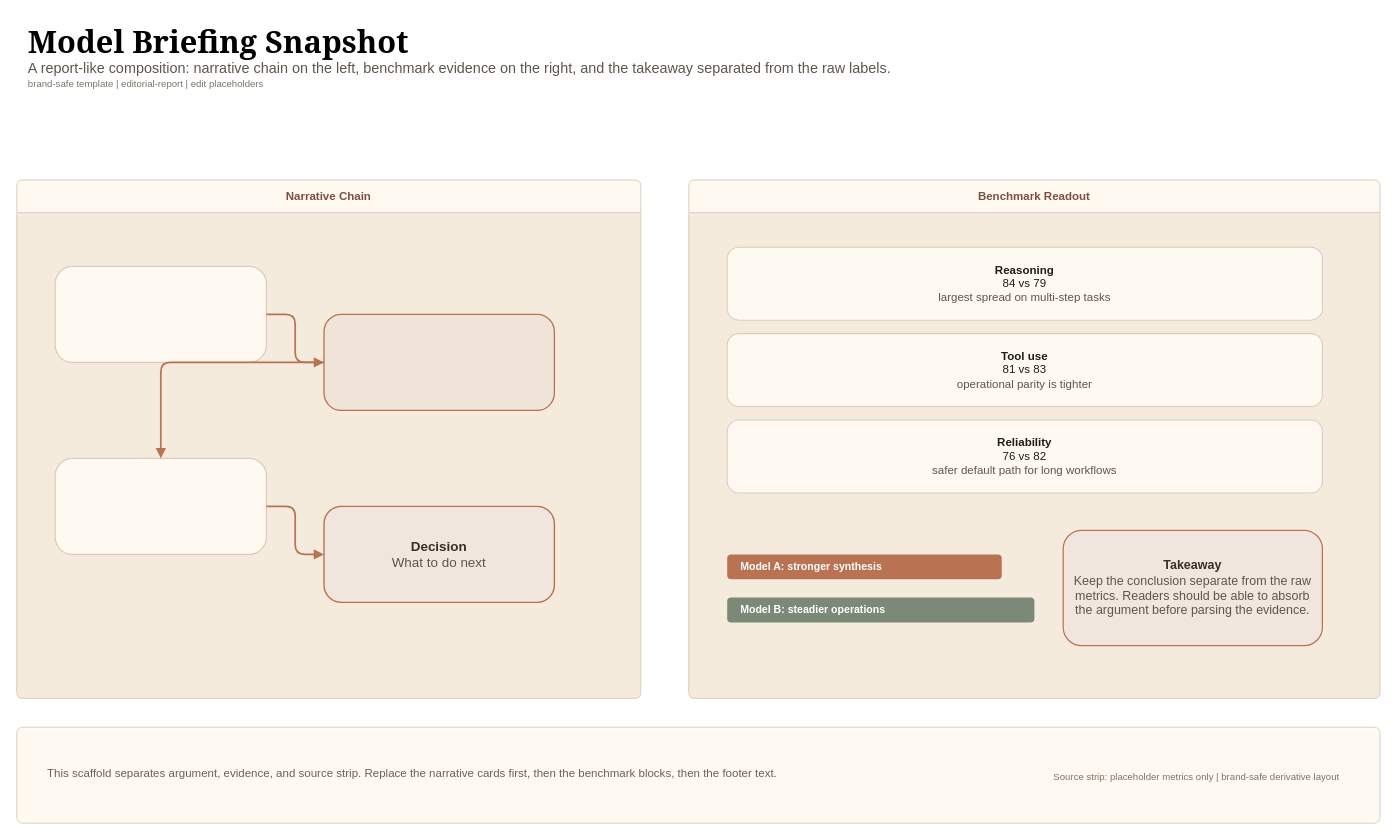
This 1397x840 diagram has some shape labels left out. The shapes that lost their labels are listed below. From the top down, each one's centre as x and y in pixels, then its label:
At (160,314): "Capability What the system does well".
At (439,362): "Constraint Where it becomes fragile".
At (160,506): "Operational use How to deploy it safely".
